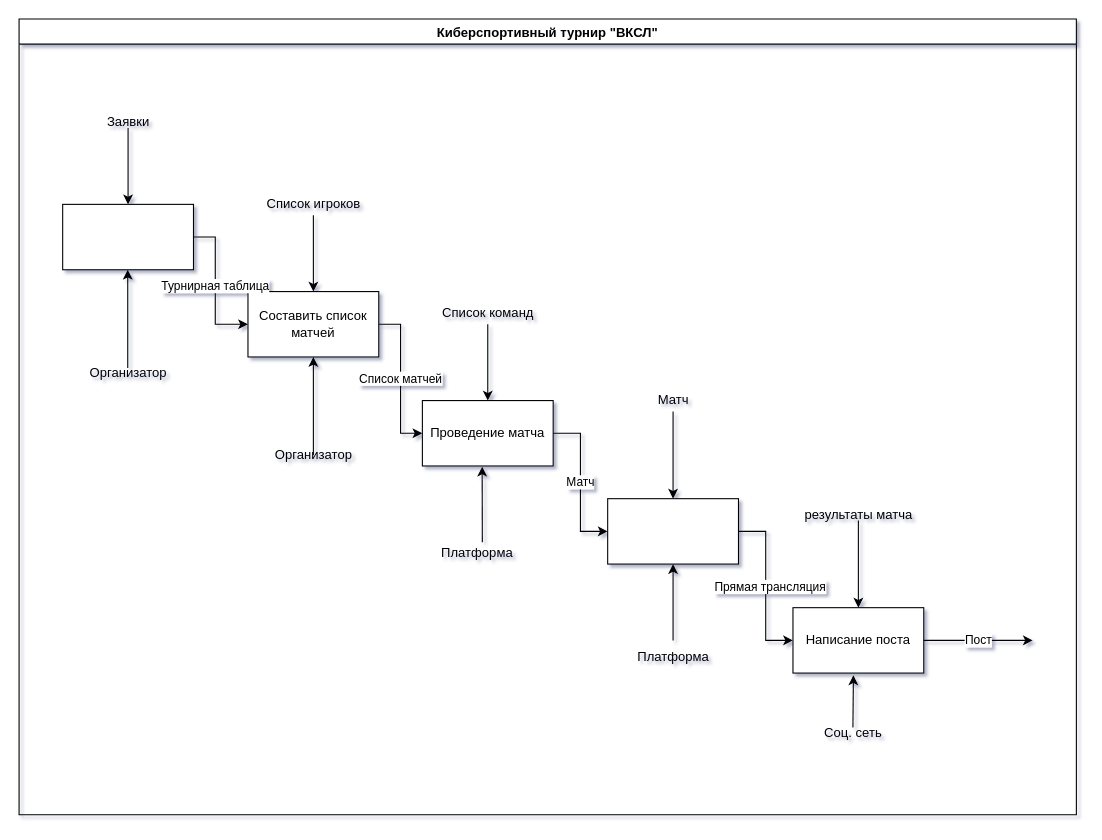
The diagram is 1102 pixels wide and 840 high, and some of its shapes have lost their labels. Here are the shapes that lost their labels. From the top down, the centre of each, then its label:
point 127,236: Собрать турнирную таблицу
point 672,531: Организация трансляции
